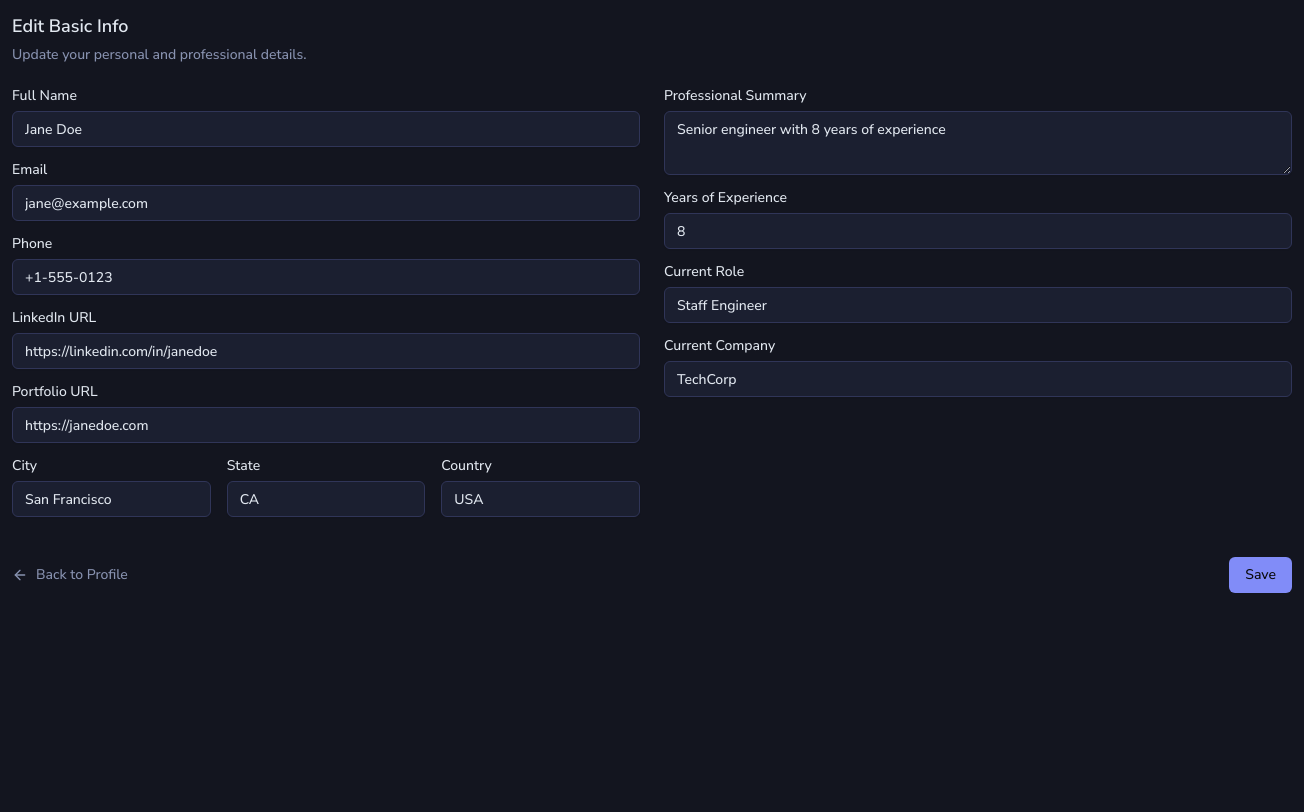
it: BasicInfoEditor › submission › shows generic error for non-API errors
What coordinates should you click on to do the following:
click the button "Save"
I would click on:
 (1261, 575)
Its box is [1229, 557, 1292, 593].
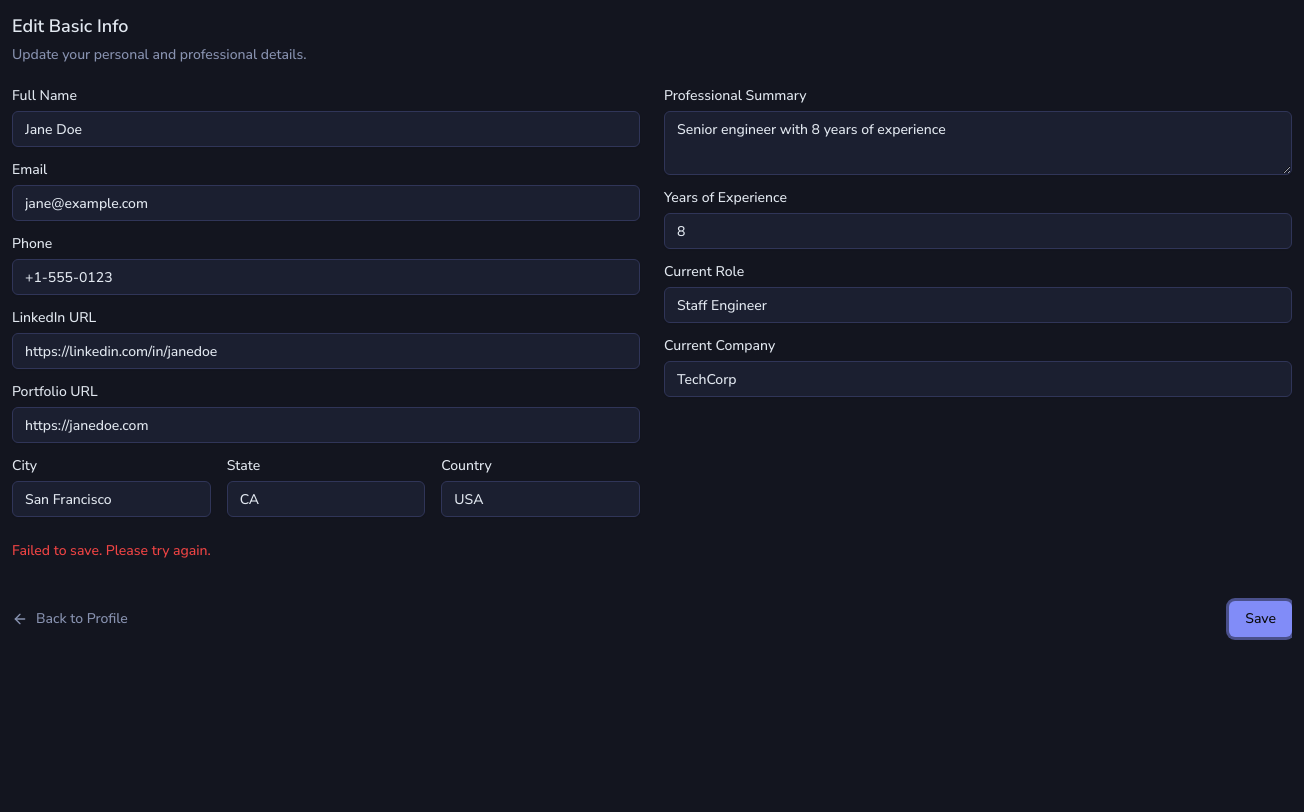
Check: the text "Failed to save. Please try again." is shown, box [12, 541, 211, 560]
